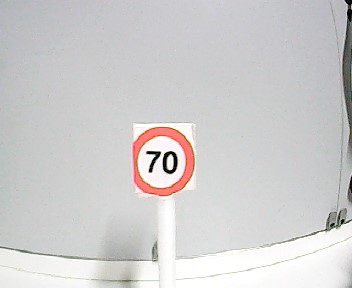70-bord: (132, 129, 196, 195)
